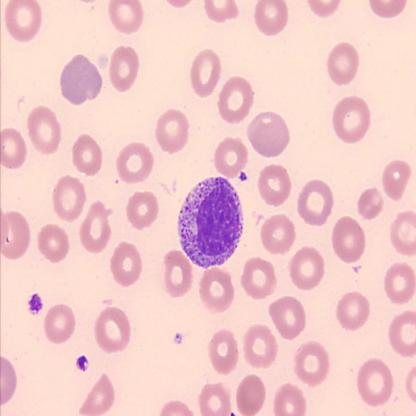Myelocyte: (178, 176, 247, 265)
